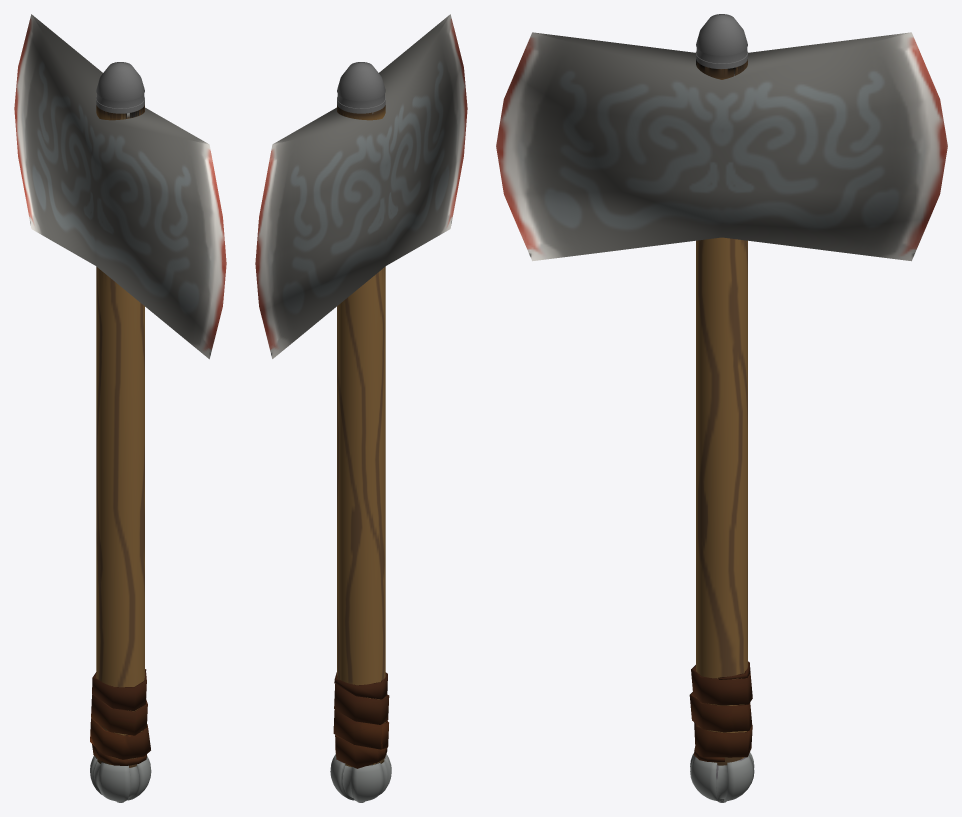
The model's file is axe.fbx.
The picture shows the model from 3 angles, left to right: view 1: azimuth 30°, elevation 25°; view 2: azimuth 150°, elevation 25°; view 3: azimuth 270°, elevation 25°; orthographic projection. The views are drawn at different scales.
Parts seen in each view (by area): view 1: Cube, Cylinder, Plane, Sphere; view 2: Cube, Cylinder, Plane, Sphere; view 3: Cube, Cylinder, Plane, Sphere.
Part boxes in pixels (box(x1,y1,x2,y2)): Cube: box(14, 14, 226, 359); Cylinder: box(96, 62, 144, 767); Plane: box(90, 669, 150, 765); Sphere: box(90, 756, 151, 802); Cube: box(255, 14, 467, 358); Cylinder: box(337, 62, 385, 766); Plane: box(333, 672, 389, 768); Sphere: box(330, 754, 391, 802); Cube: box(496, 32, 947, 261); Cylinder: box(696, 14, 747, 765); Plane: box(689, 661, 752, 761); Sphere: box(690, 752, 754, 802).
Size of the model in its own units: 0.6006 by 8.11 by 4.22.
4 materials, 4 textured.
